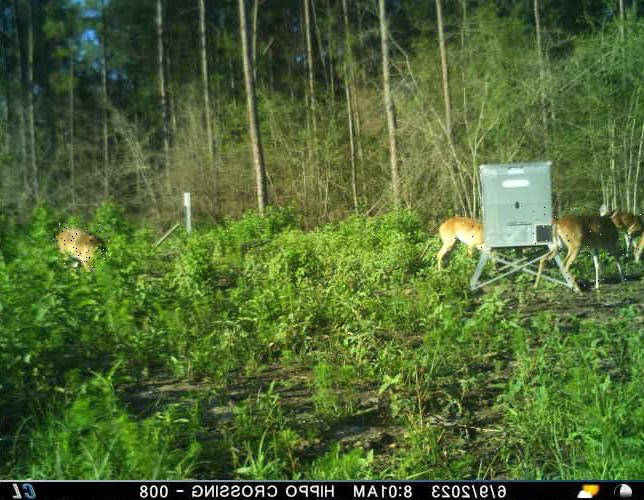Deer: (532, 204, 639, 292), (430, 213, 483, 266), (53, 224, 110, 272), (607, 207, 644, 260)
